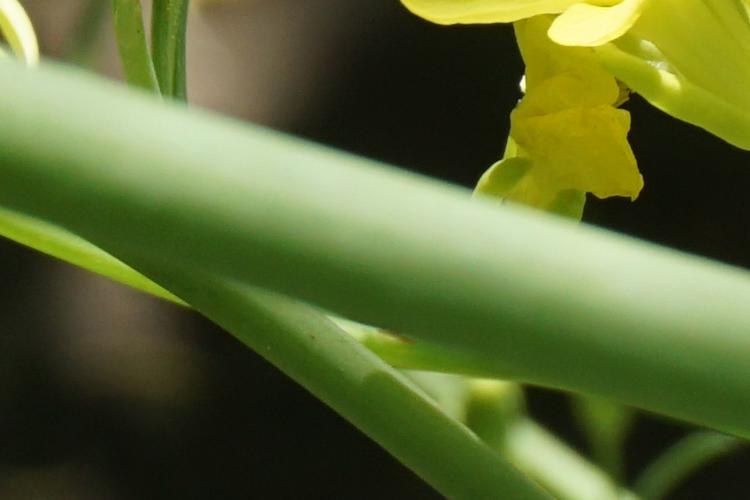yellow: (436, 12, 735, 189)
